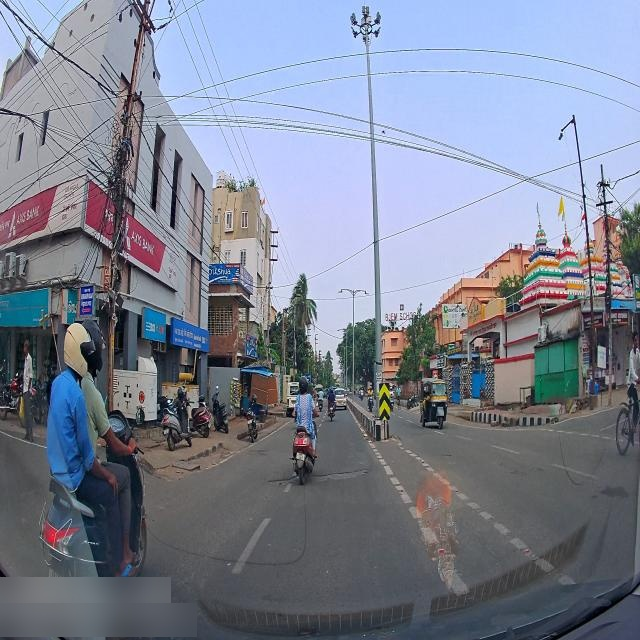pothole: (312, 465, 376, 485), (266, 470, 297, 492)
